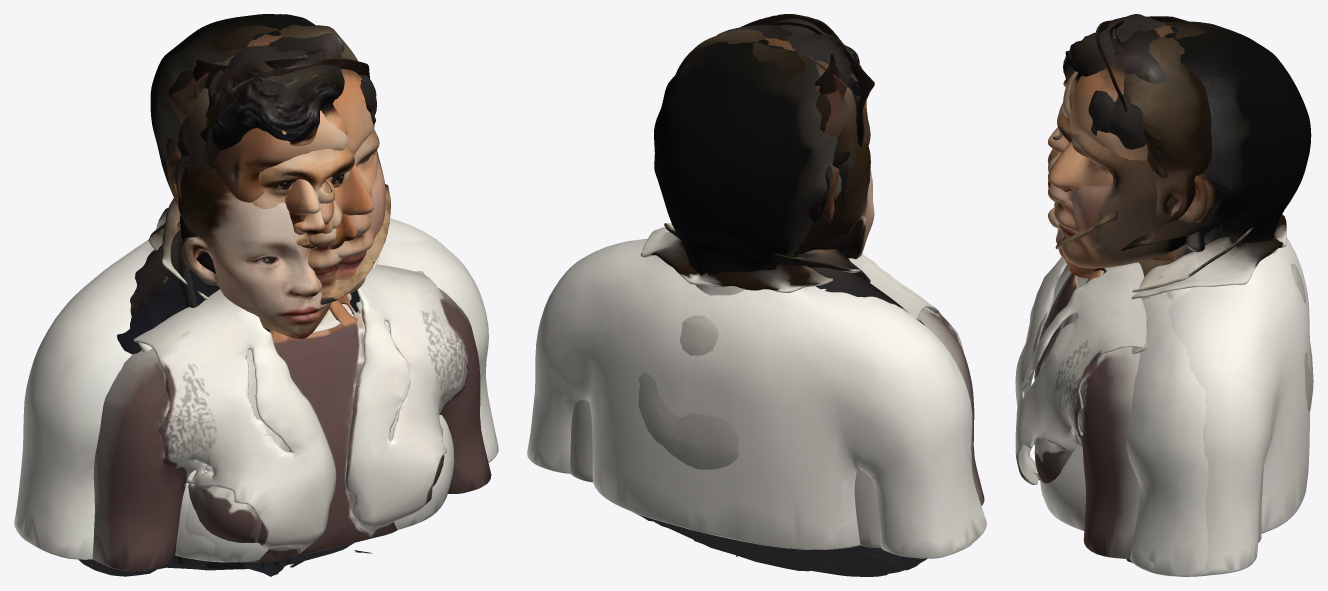
Rendered from rizal-busts.glb.
The picture shows the model from 3 angles, left to right: view 1: azimuth 30°, elevation 25°; view 2: azimuth 150°, elevation 25°; view 3: azimuth 270°, elevation 25°; orthographic projection. The views are drawn at different scales.
Visible parts, largest first — view 1: BUST_Saturnina, BUST_Francisco, BUST_Jose, BUST_Soledad, BUST_Paciano, BUST_Olimpia, BUST_Trinidad, BUST_Narcisa, BUST_Teodora, BUST_Maria, BUST_Lucia, BUST_Josefa; view 2: BUST_Francisco, BUST_Olimpia, BUST_Jose, BUST_Saturnina, BUST_Josefa, BUST_Soledad, BUST_Lucia, BUST_Trinidad, BUST_Teodora, BUST_Maria, BUST_Narcisa; view 3: BUST_Francisco, BUST_Olimpia, BUST_Saturnina, BUST_Paciano, BUST_Josefa, BUST_Narcisa, BUST_Jose, BUST_Trinidad, BUST_Teodora, BUST_Lucia, BUST_Soledad, BUST_Maria.
Part boxes in pixels (box(x1,y1,x2,y2)): BUST_Saturnina: box(92, 58, 491, 571); BUST_Francisco: box(14, 41, 498, 562); BUST_Jose: box(78, 46, 376, 576); BUST_Soledad: box(178, 164, 331, 339); BUST_Paciano: box(116, 32, 498, 562); BUST_Olimpia: box(150, 14, 385, 293); BUST_Trinidad: box(117, 50, 424, 375); BUST_Narcisa: box(177, 33, 377, 266); BUST_Teodora: box(162, 30, 353, 470); BUST_Maria: box(182, 24, 358, 312); BUST_Lucia: box(165, 25, 333, 249); BUST_Josefa: box(148, 25, 379, 267); BUST_Francisco: box(527, 44, 986, 558); BUST_Olimpia: box(570, 39, 880, 547); BUST_Jose: box(634, 18, 927, 576); BUST_Saturnina: box(740, 14, 984, 506); BUST_Josefa: box(640, 29, 832, 292); BUST_Soledad: box(791, 143, 874, 259); BUST_Lucia: box(752, 42, 832, 221); BUST_Trinidad: box(765, 21, 920, 320); BUST_Teodora: box(664, 42, 860, 272); BUST_Maria: box(727, 35, 856, 169); BUST_Narcisa: box(717, 24, 850, 166); BUST_Francisco: box(1048, 21, 1310, 575); BUST_Olimpia: box(1048, 21, 1313, 542); BUST_Saturnina: box(1015, 20, 1146, 558); BUST_Paciano: box(1040, 25, 1215, 576); BUST_Josefa: box(1124, 22, 1286, 299); BUST_Narcisa: box(1048, 29, 1165, 212); BUST_Jose: box(1048, 14, 1208, 562); BUST_Trinidad: box(1047, 16, 1220, 354); BUST_Teodora: box(1034, 27, 1253, 469); BUST_Lucia: box(1048, 21, 1222, 226); BUST_Soledad: box(1048, 207, 1106, 278); BUST_Maria: box(1047, 36, 1184, 261).
Size of the model in its own units: 0.5547 by 0.5693 by 0.3299.
13 materials, 12 textured.
